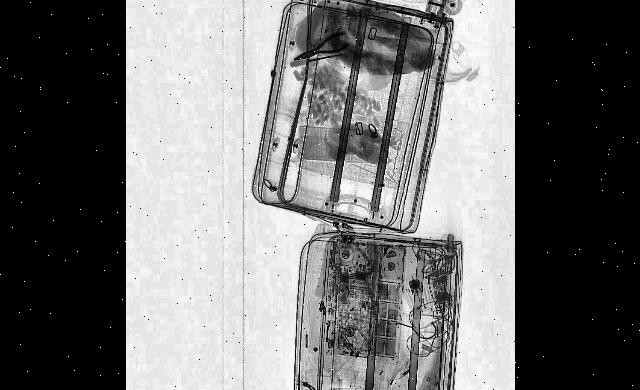Pliers: (292, 28, 350, 70)
